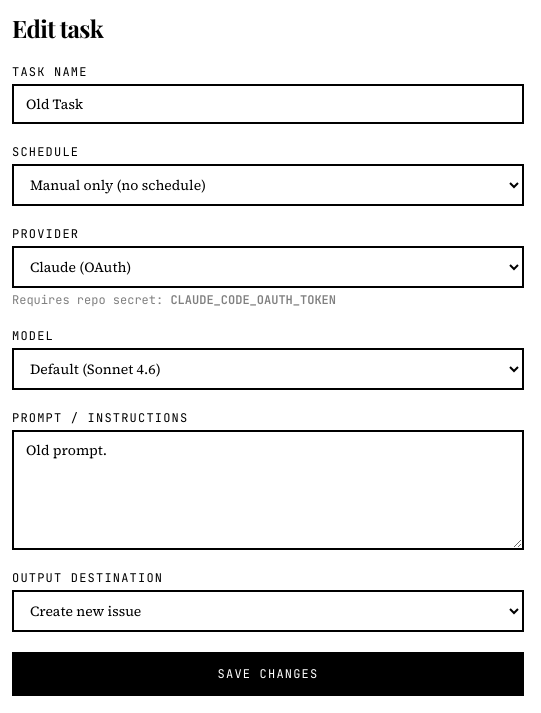
Test: TaskForm › does not show diff block when yaml is unchanged
This screenshot has width=541, height=713.
// Submit without changing anything → same yaml
Select "Create new issue" in the dropdown labelled "Output destination" at [268, 611], box x1=12 y1=590 x2=524 y2=632
Click the button "Save changes".
click(268, 674)  # box x1=12 y1=652 x2=524 y2=696
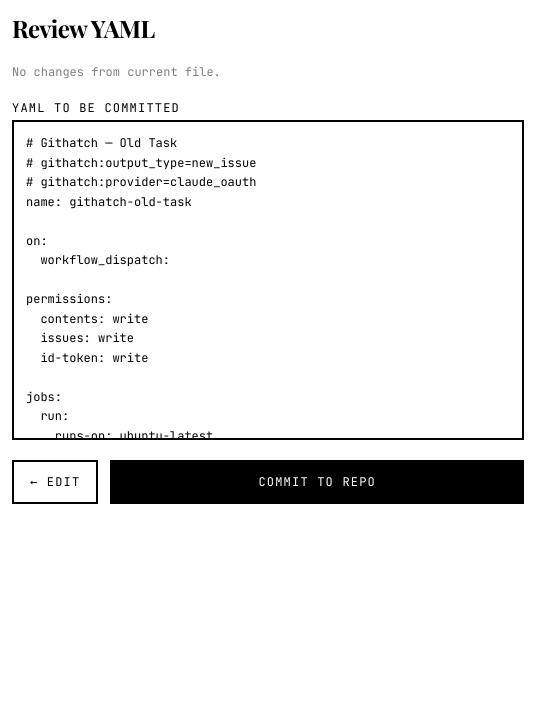
Now the text "No changes from current file." is shown, box x1=12 y1=64 x2=221 y2=80
